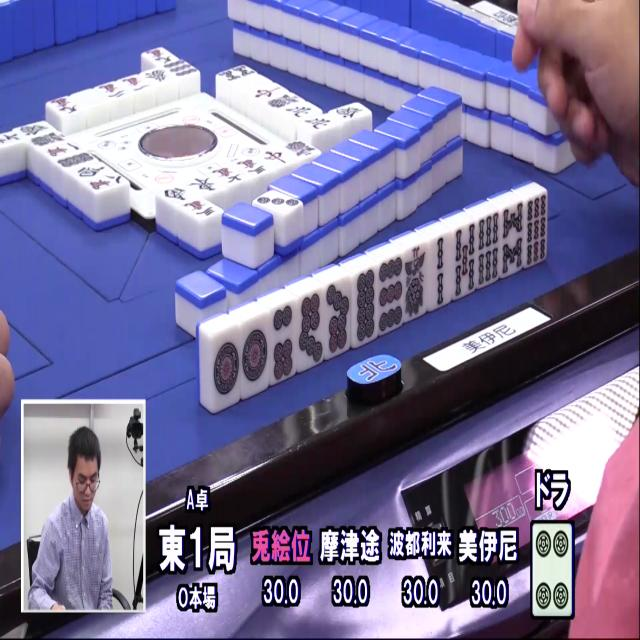s1: (402, 246, 431, 322)
s2: (429, 234, 455, 312)
s5: (451, 224, 478, 303)
s6: (475, 213, 503, 290)
s8: (501, 204, 527, 280)
s9: (524, 193, 548, 269)
t1: (206, 327, 242, 408), (238, 316, 272, 397)
t3: (256, 190, 300, 215)
t4: (530, 518, 577, 616)
t6: (267, 303, 299, 386)
t7: (295, 290, 328, 370), (321, 281, 353, 358)
t8: (351, 270, 377, 347)
t9: (374, 256, 403, 334)
